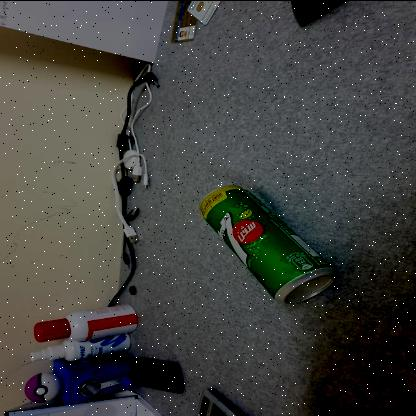Can: (200, 184, 338, 304)
